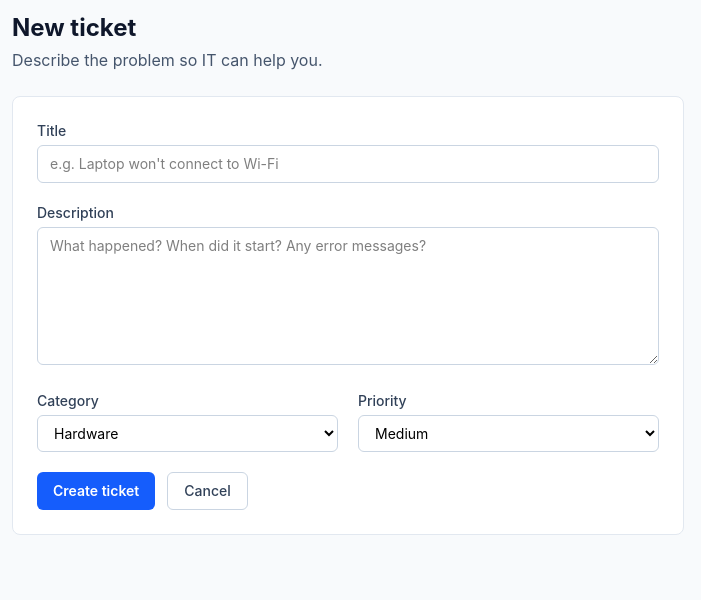
Test: NewTicketPage › shows errors and does not submit when required fields are empty
Click the button "Create ticket". click: (96, 491)
box: [37,472,155,510]
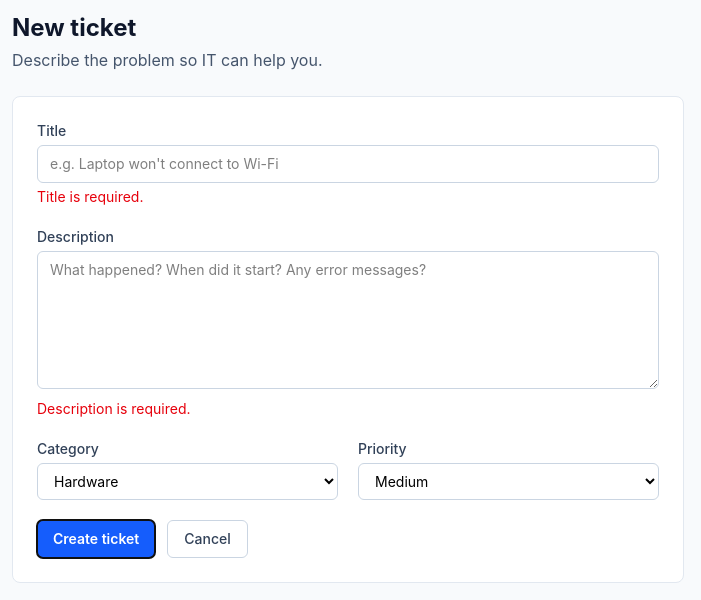
expect the text "Title is required." is shown: met, box [37,188,144,205]
expect the text "Description is required." is shown: met, box [37,400,191,417]
